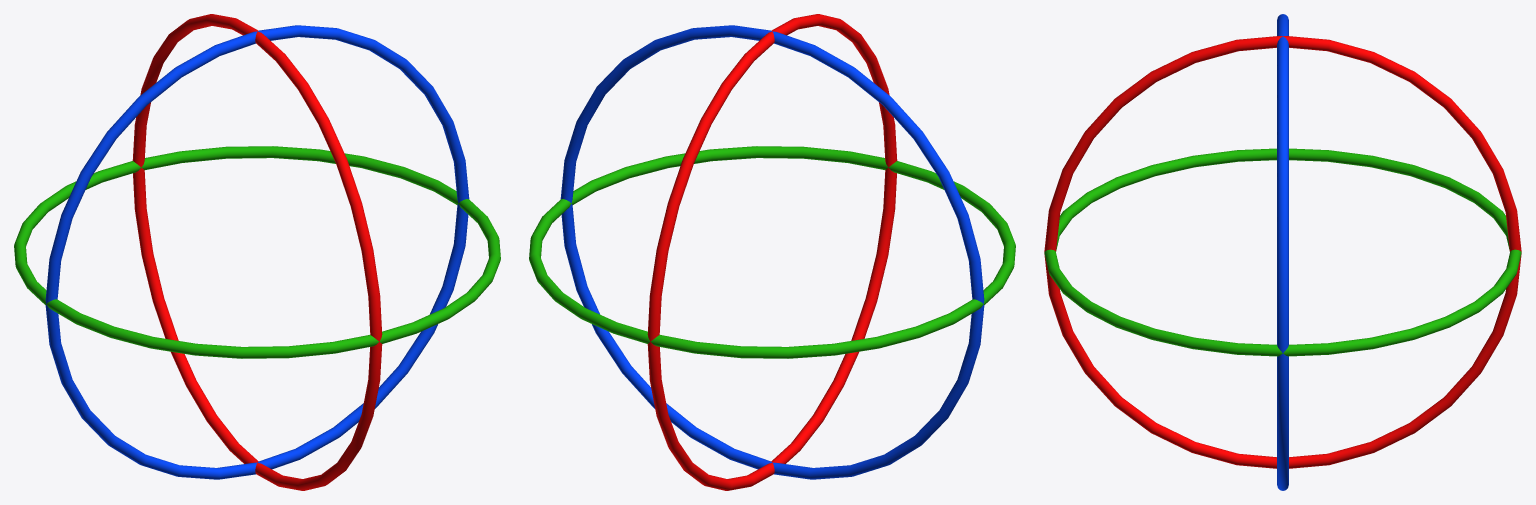
Rendered from rotate.FBX.
3 renders of one model, left to right at view 1: azimuth 30°, elevation 25°; view 2: azimuth 150°, elevation 25°; view 3: azimuth 270°, elevation 25°, orthographic. The views are drawn at different scales.
Visible parts, largest first — view 1: Torus002, Torus001, Torus003; view 2: Torus002, Torus001, Torus003; view 3: Torus001, Torus003, Torus002.
Part boxes in pixels (box(x1,y1,x2,y2)): Torus002: box(45, 25, 469, 479); Torus001: box(132, 14, 382, 490); Torus003: box(14, 146, 500, 358); Torus002: box(560, 25, 984, 479); Torus001: box(647, 14, 897, 490); Torus003: box(529, 146, 1015, 358); Torus001: box(1044, 36, 1521, 468); Torus003: box(1044, 148, 1521, 356); Torus002: box(1277, 14, 1288, 490).
Size of the model in its own units: 73.2 by 73.2 by 73.2.
Materials: 1 (1 with a texture image).
